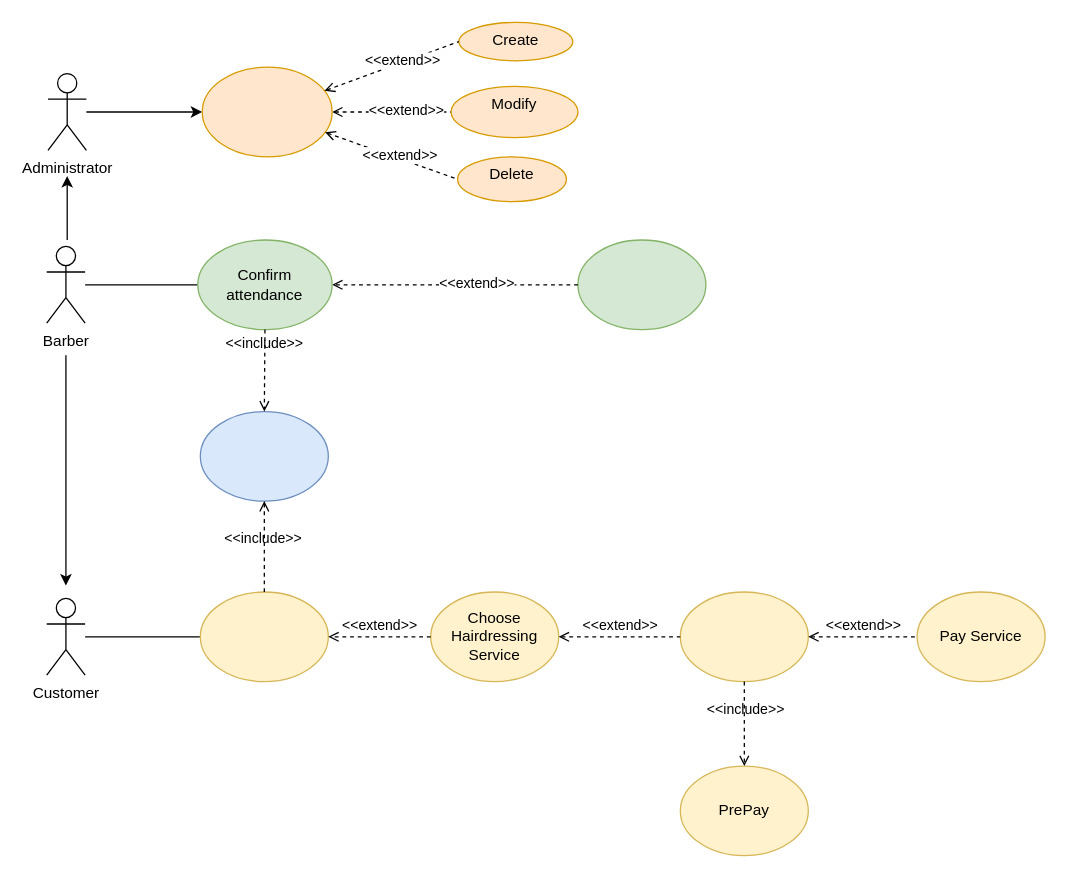
The diagram is 1068 pixels wide and 878 high, and some of its shapes have lost their labels. The box of each missing label's shape, as (x1, y1, x2, y2) in pixels:
Authentication: (199, 410, 328, 501)
Check Calendar: (199, 591, 328, 682)
Create Appointment: (679, 591, 808, 682)
Manage Appointments: (201, 66, 332, 157)
Perform Service: (577, 239, 706, 330)
